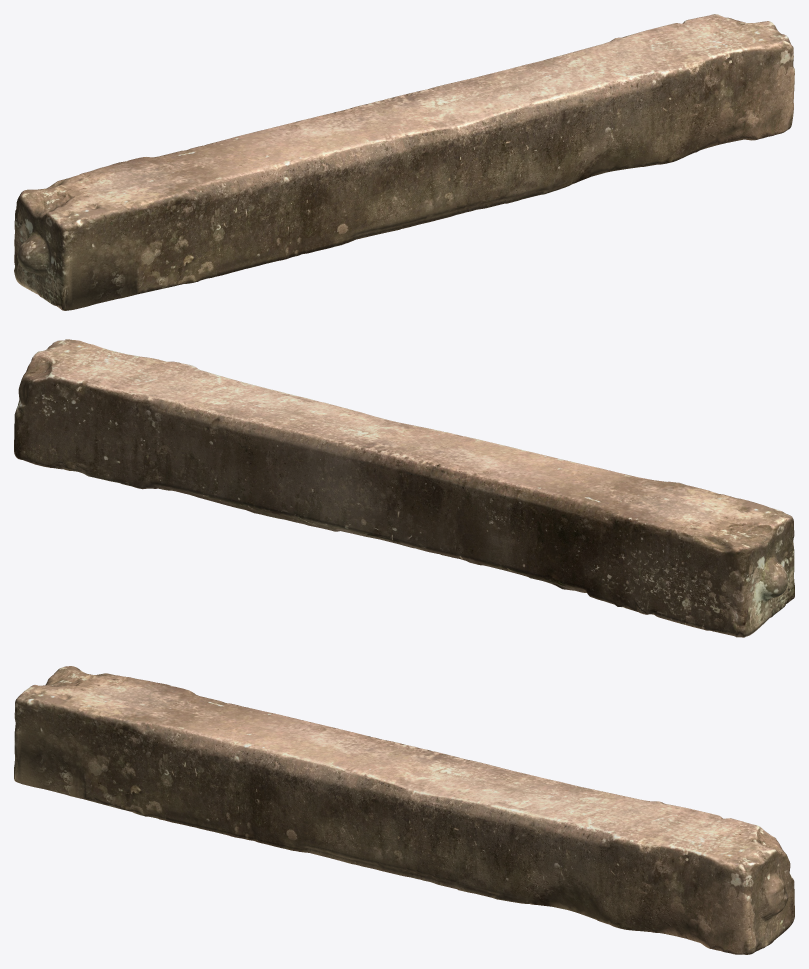
File: 16_MysonSanctuaryD_Trucot_final.glb
3 renders of one model, top to bottom at view 1: azimuth 30°, elevation 25°; view 2: azimuth 150°, elevation 25°; view 3: azimuth 330°, elevation 25°, orthographic.
Size of the model in its own units: 2 by 0.2429 by 0.2466.
1 material, 1 textured.
